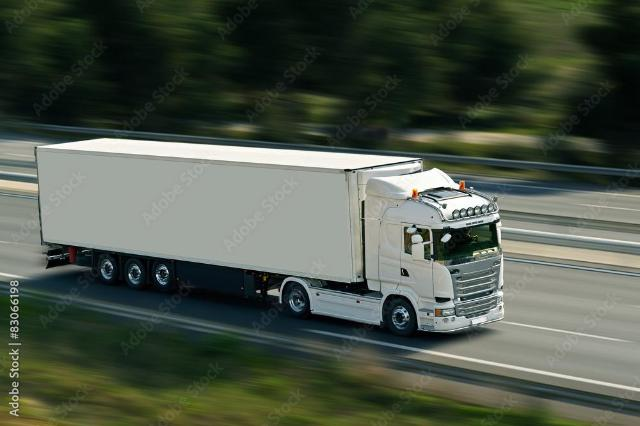truck: (30, 106, 567, 361)
